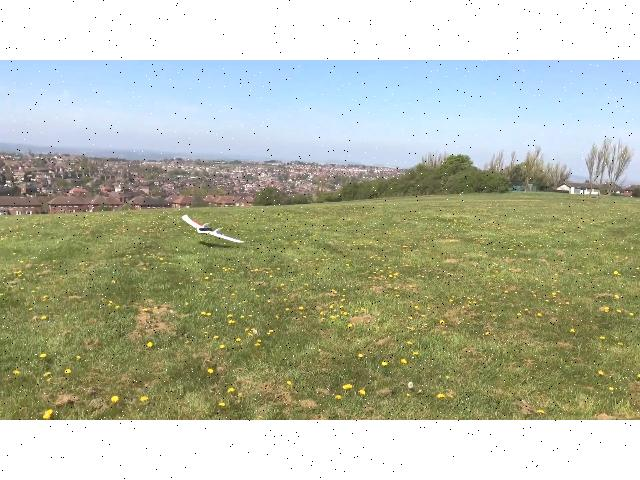Anti-Drone: (160, 209, 272, 251)
